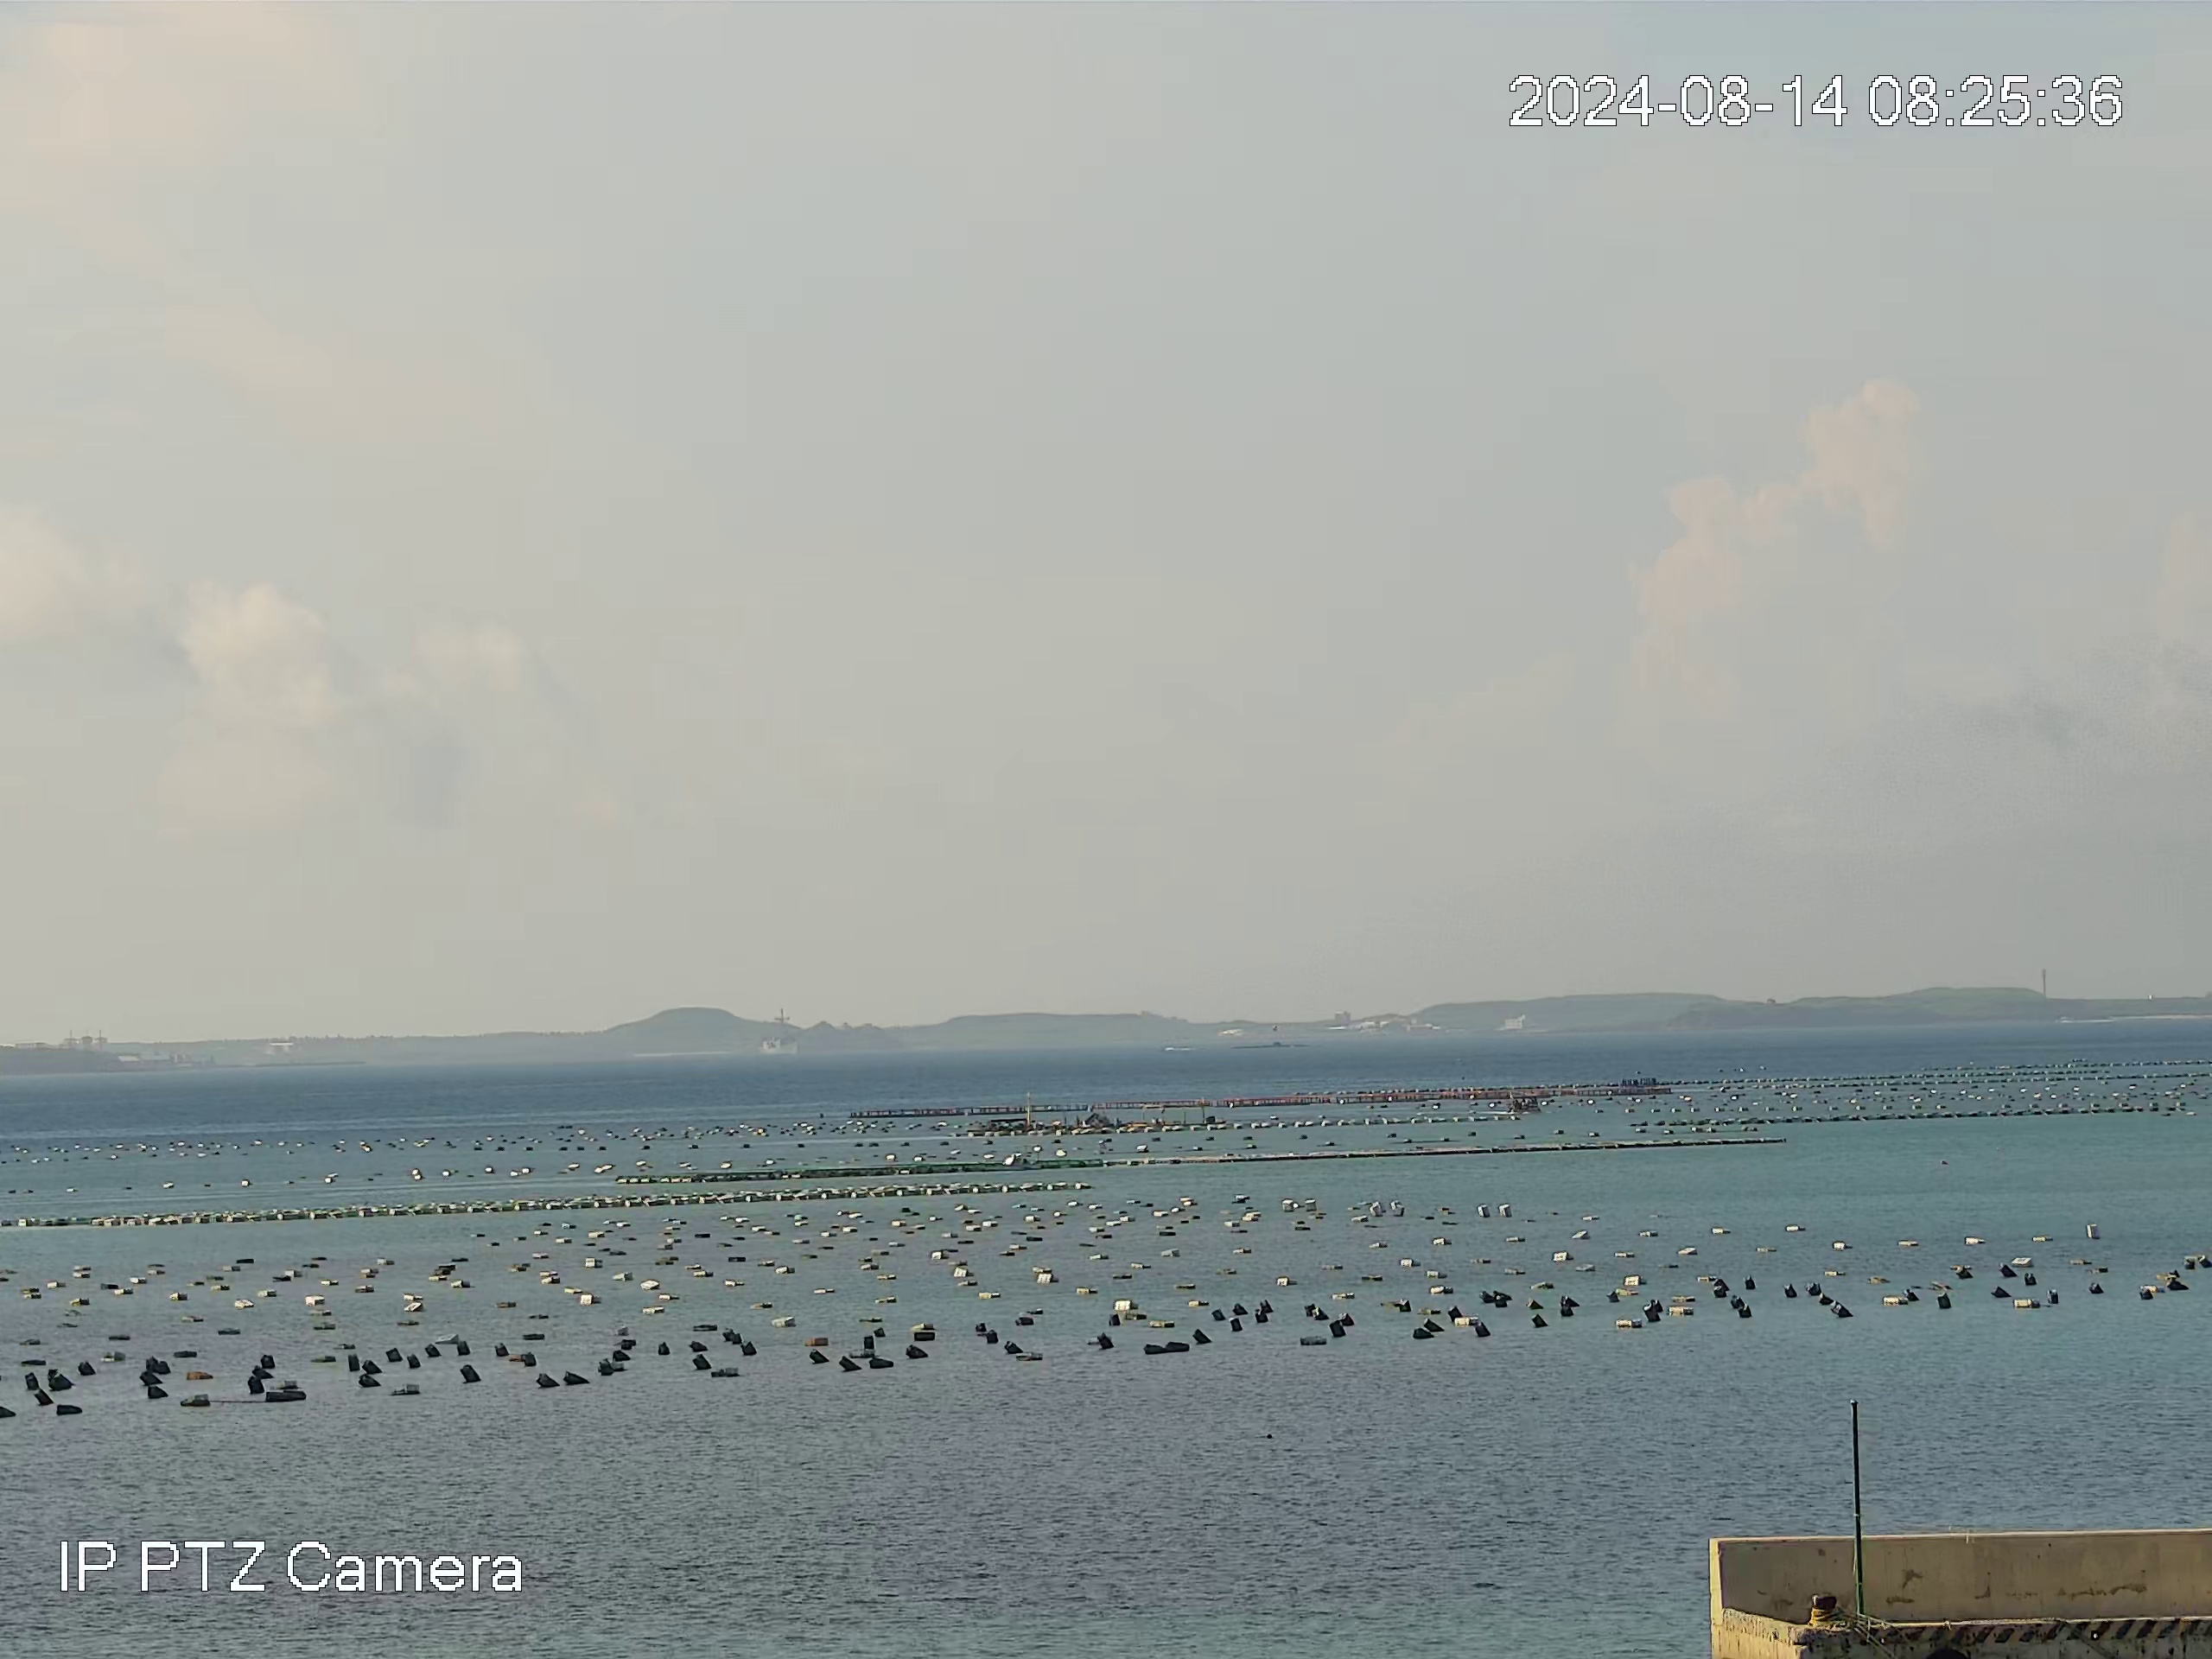boat: (1505, 1089, 1548, 1112)
